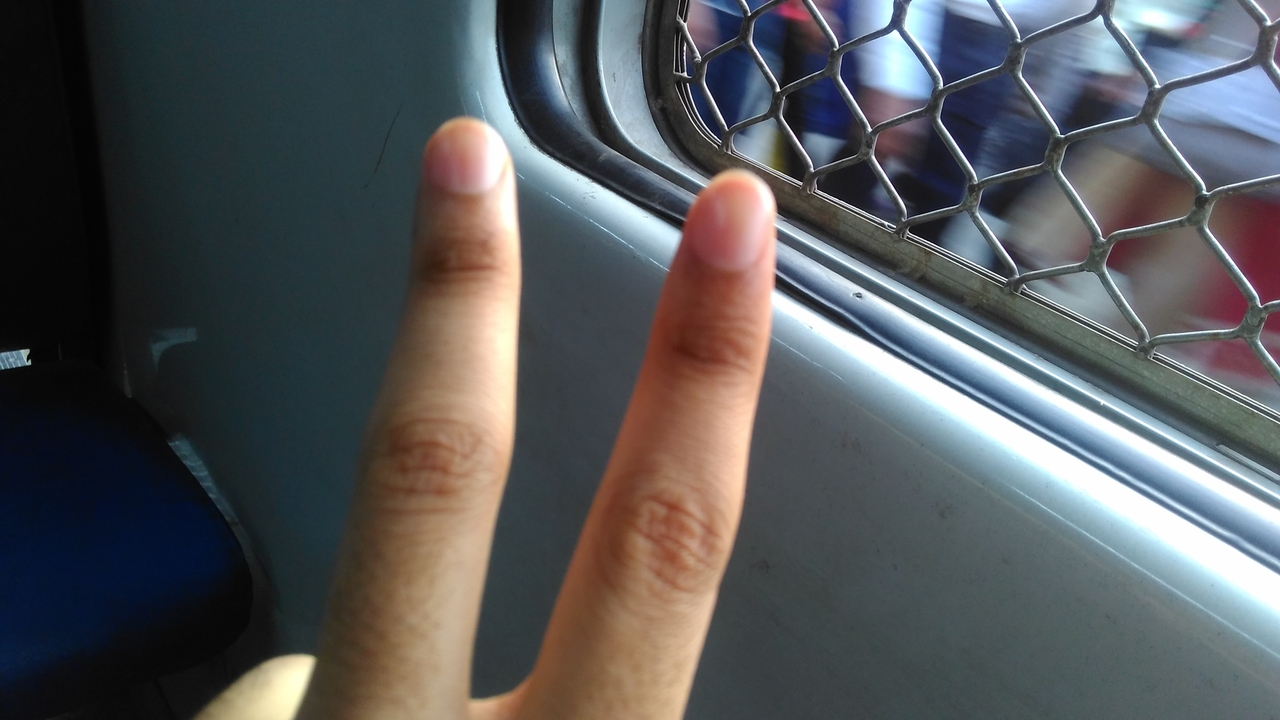fingertip: (415, 117, 515, 215), (688, 160, 780, 250)
